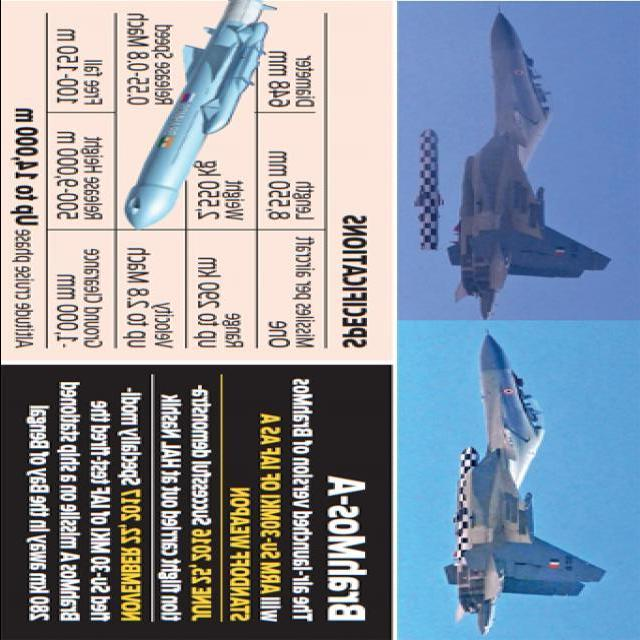missile: (408, 126, 452, 253)
